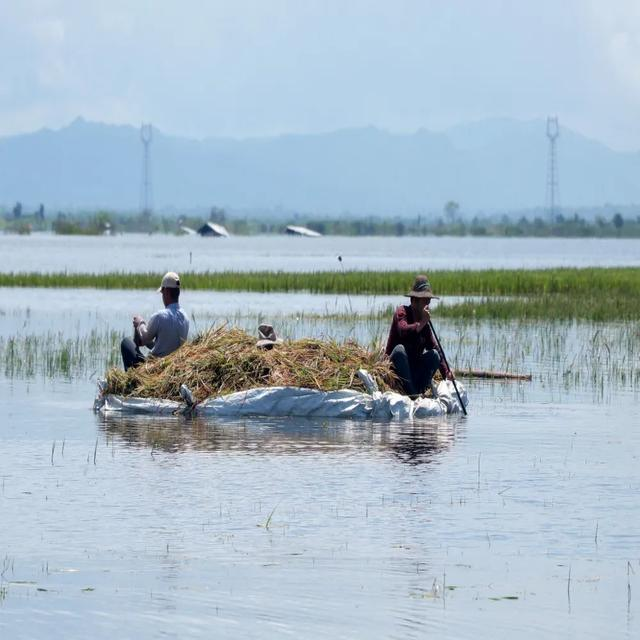Person-RiskLevel3: (384, 268, 472, 408), (117, 268, 199, 374)
